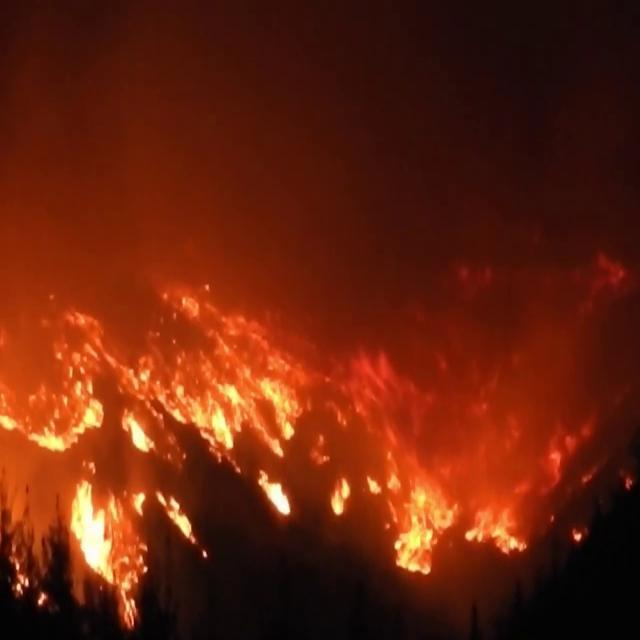Fire: (166, 285, 292, 428), (2, 373, 108, 461), (176, 384, 256, 474), (394, 486, 454, 578), (74, 480, 116, 594), (475, 478, 519, 572), (264, 462, 289, 529)
Smoke: (306, 53, 608, 342), (21, 29, 273, 241)
